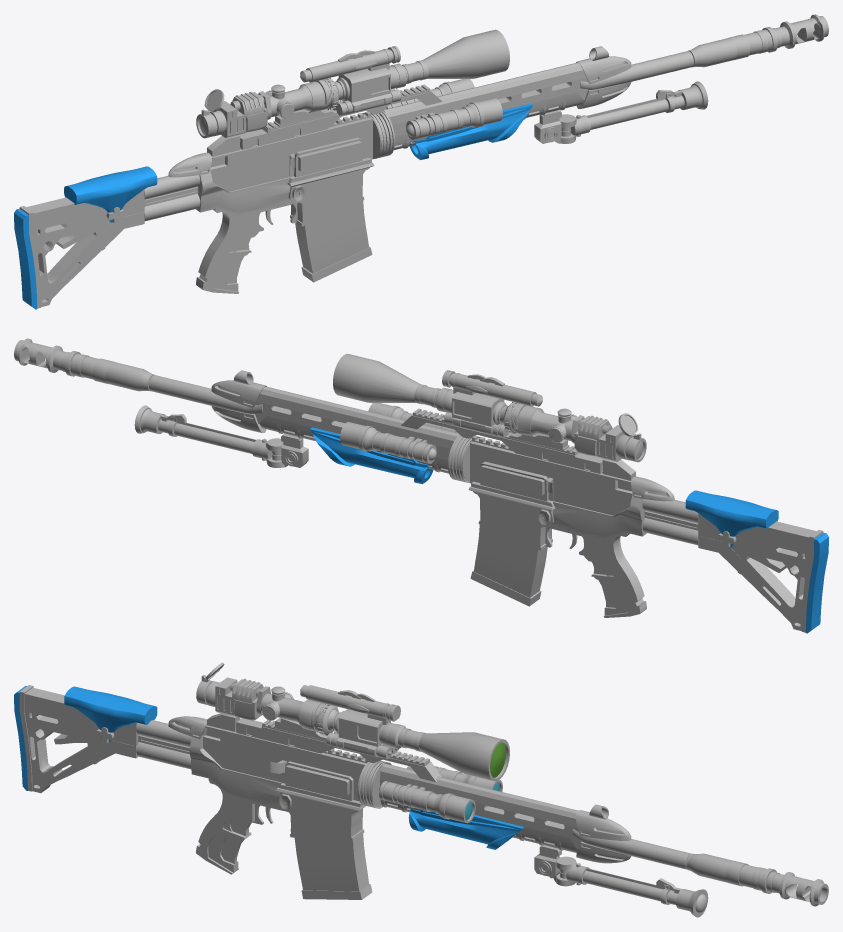
The model's file is sniper.glb.
3 renders of one model, top to bottom at view 1: azimuth 30°, elevation 25°; view 2: azimuth 150°, elevation 25°; view 3: azimuth 330°, elevation 25°, orthographic.
Visible parts, largest first — view 1: super_sniper; view 2: super_sniper; view 3: super_sniper.
Part boxes in pixels (x1,y1,x2,y2): super_sniper: [14, 14, 828, 309]; super_sniper: [14, 338, 828, 633]; super_sniper: [14, 662, 828, 917].
Bounding box in the file's own units: 3.13 × 0.794 × 0.2703.
